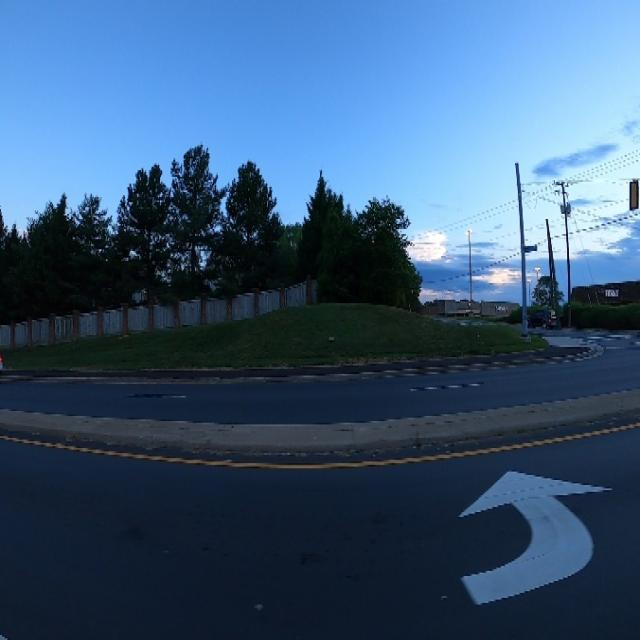cars: (528, 304, 558, 329), (0, 350, 6, 377)
